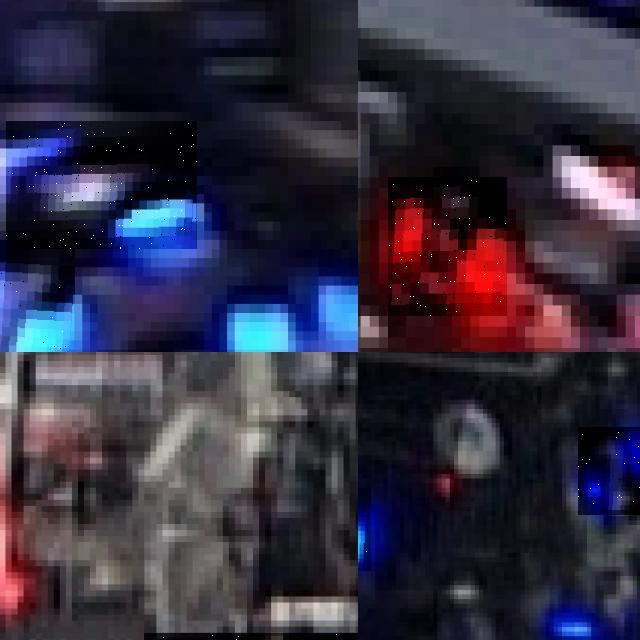B2: (578, 427, 640, 515)
B4: (6, 121, 197, 249), (0, 249, 75, 352)
R5: (388, 177, 507, 316)
